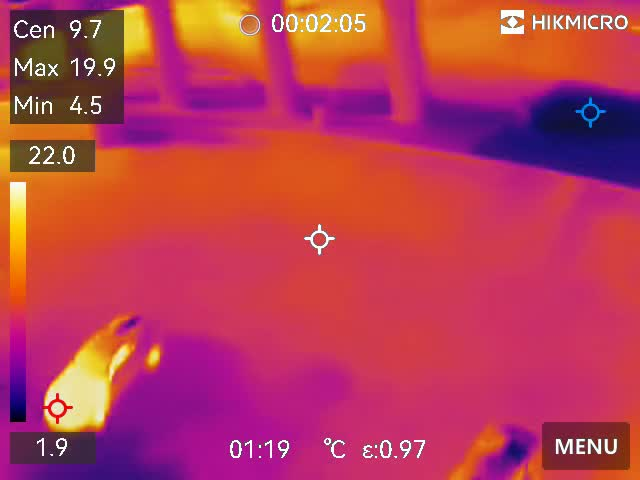vehicle: (38, 311, 163, 431), (443, 416, 543, 480)
